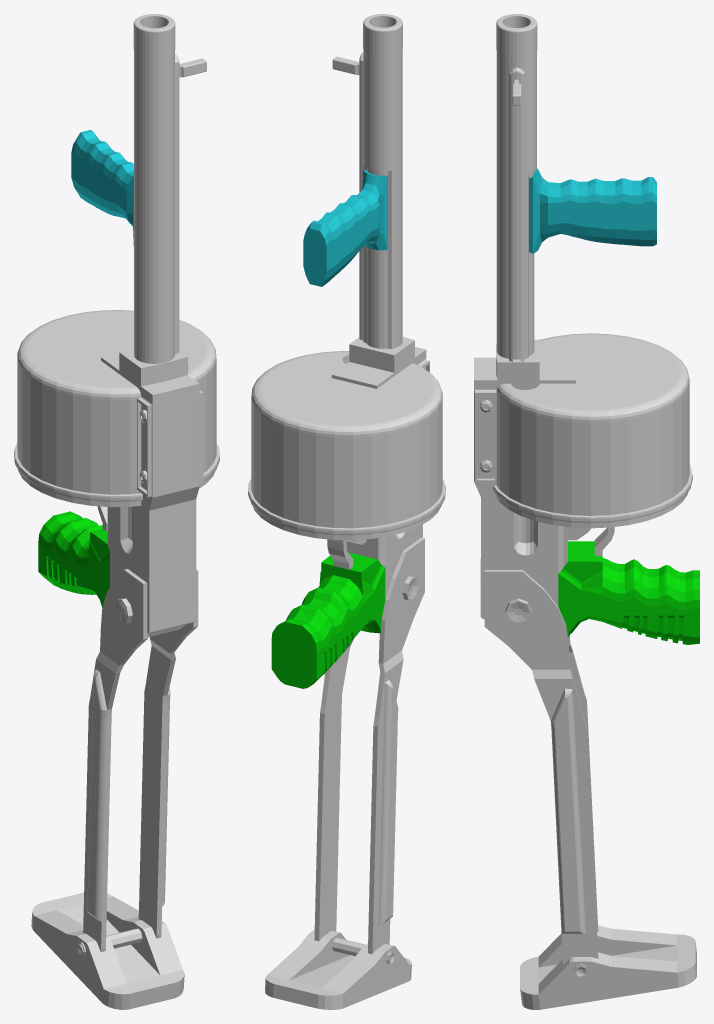
The model's file is Striker.fbx.
The picture shows the model from 3 angles, left to right: view 1: azimuth 30°, elevation 25°; view 2: azimuth 150°, elevation 25°; view 3: azimuth 270°, elevation 25°; orthographic projection. The views are drawn at different scales.
Visible parts, largest first — view 1: barrel.001; view 2: barrel.001; view 3: barrel.001.
Boxes of the visible parts, x1=… form: barrel.001: x1=14, y1=14, x2=219, y2=1009; barrel.001: x1=248, y1=14, x2=445, y2=1009; barrel.001: x1=474, y1=14, x2=699, y2=1009.
Bounding box in the file's own units: 10.26 × 53.95 × 11.37.
